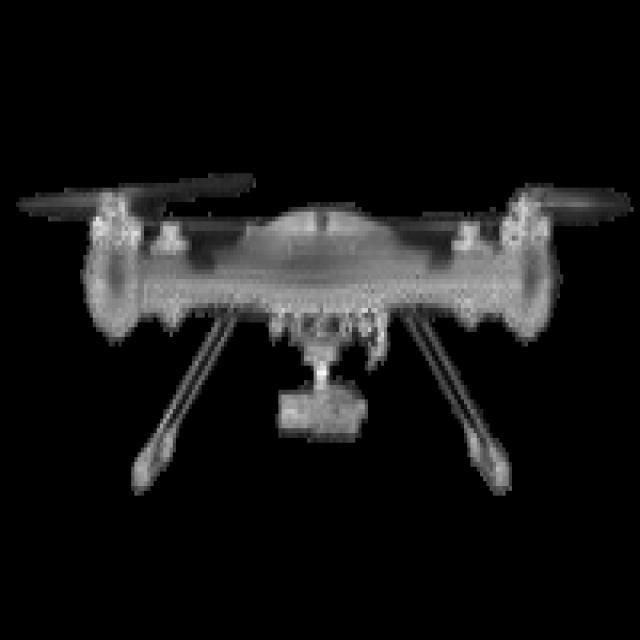drone: (16, 174, 624, 506)
